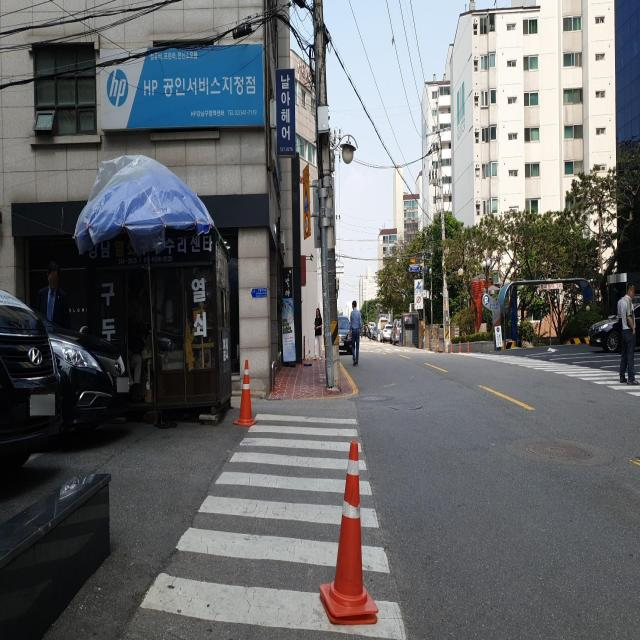횡단보도: (137, 408, 410, 640)
